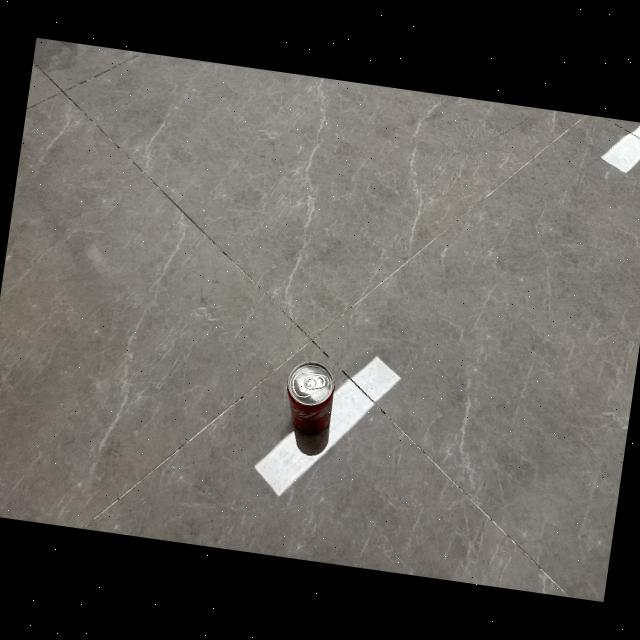Cola: (281, 354, 344, 421)
